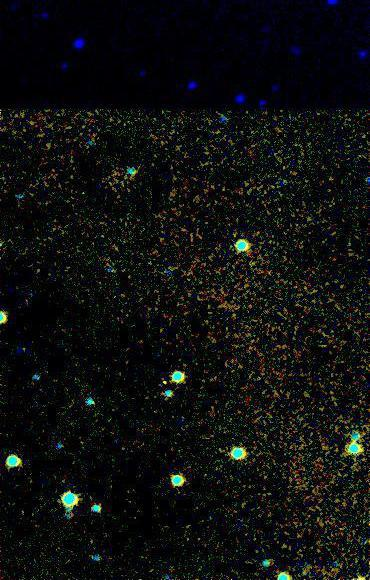star: (149, 367, 179, 397)
